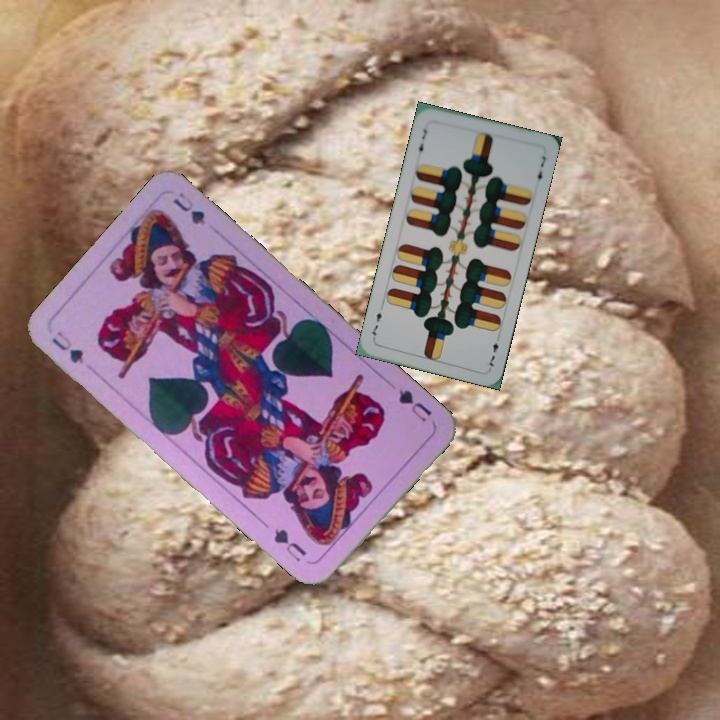E7: (485, 331, 502, 371), (413, 125, 430, 159)
GU: (394, 384, 435, 425), (47, 327, 87, 366)
